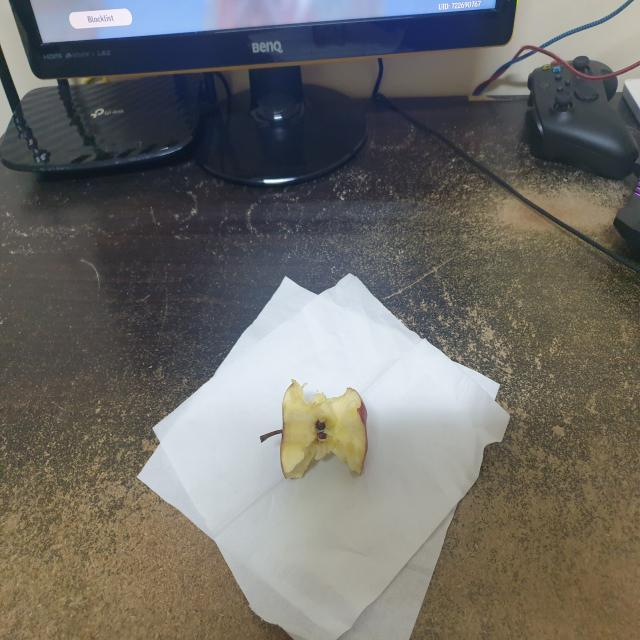apple: (256, 375, 376, 486)
